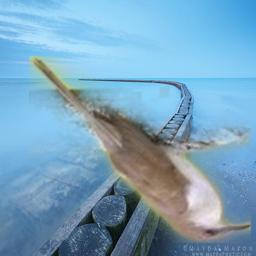Cuckoo: (29, 56, 251, 243)
